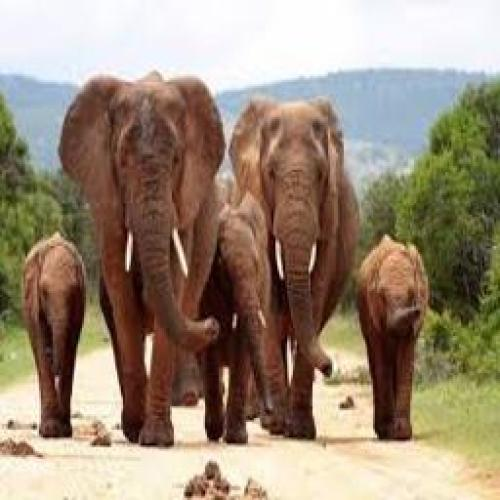african_elephant-endangered: (62, 67, 226, 448), (228, 94, 358, 442), (202, 189, 278, 447), (356, 237, 434, 444), (25, 237, 86, 438)
